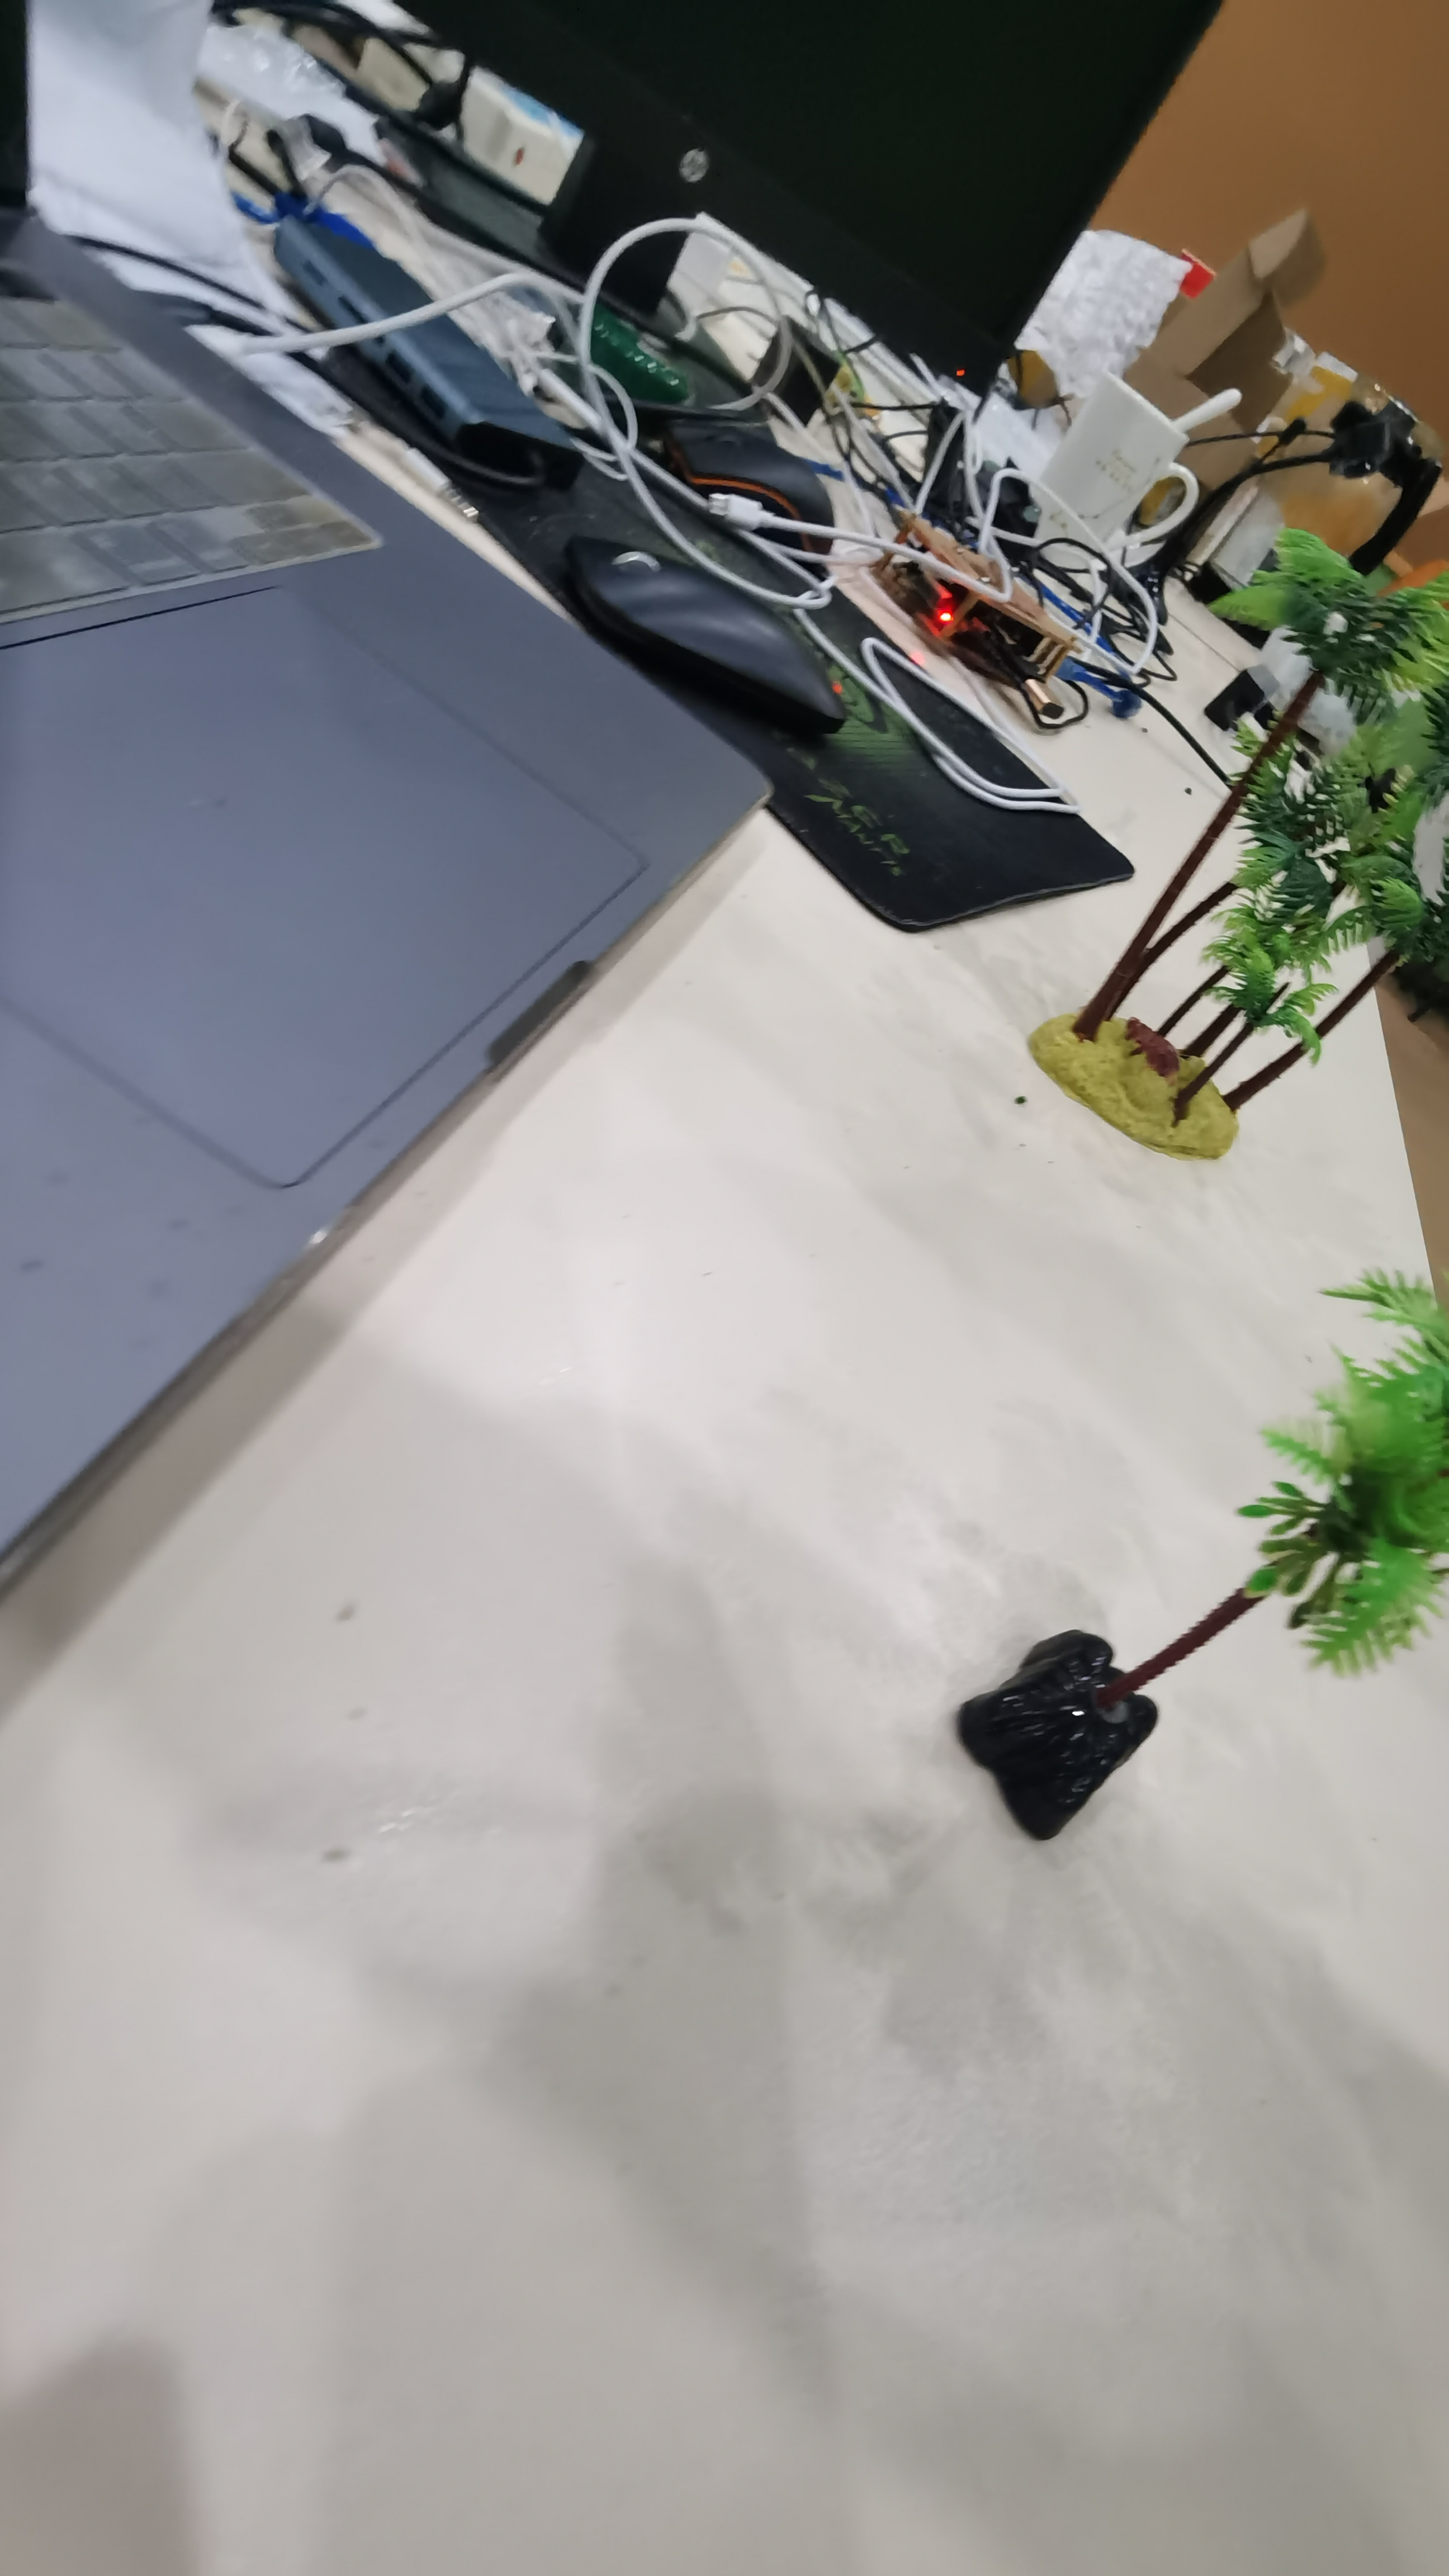corn: (947, 1265, 1449, 1856), (1028, 522, 1449, 1152)
